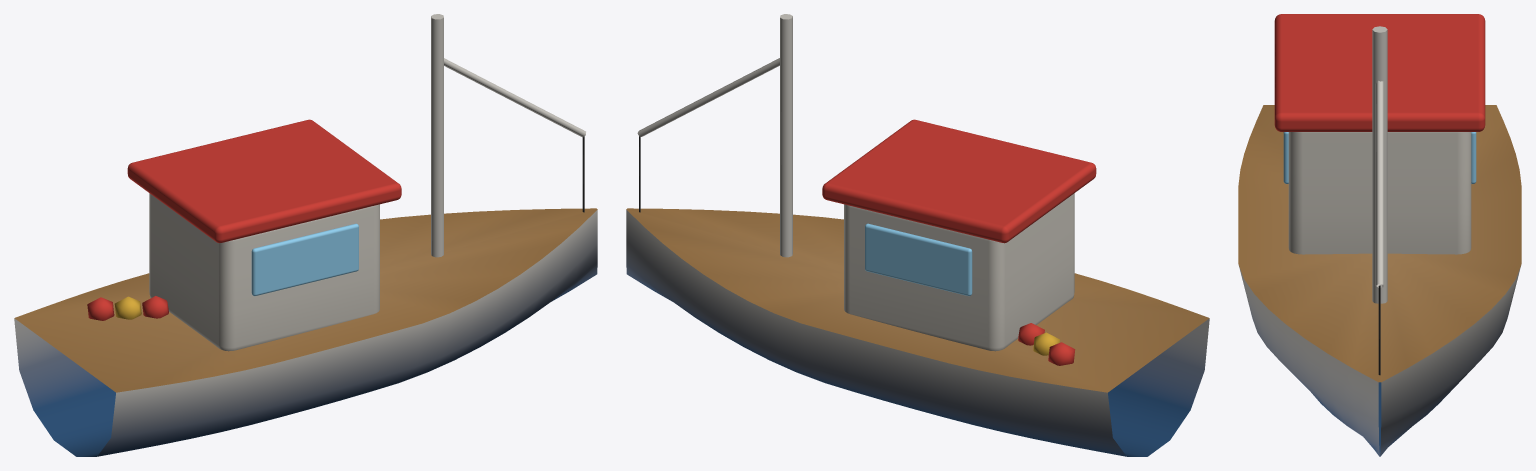
File: sea_fish.glb
3 renders of one model, left to right at view 1: azimuth 30°, elevation 25°; view 2: azimuth 150°, elevation 25°; view 3: azimuth 270°, elevation 25°, orthographic. The views are drawn at different scales.
Parts seen in each view (by area): view 1: sea_fish_main, sea_fish_glass; view 2: sea_fish_main, sea_fish_glass; view 3: sea_fish_main, sea_fish_glass.
Part boxes in pixels (<box>): sea_fish_main: <box>14,14,597,456</box>; sea_fish_glass: <box>251,223,358,296</box>; sea_fish_main: <box>626,14,1209,456</box>; sea_fish_glass: <box>865,223,972,296</box>; sea_fish_main: <box>1238,14,1521,456</box>; sea_fish_glass: <box>1283,132,1476,183</box>.
Bounding box in the file's own units: 2 × 1.23 × 0.808.
